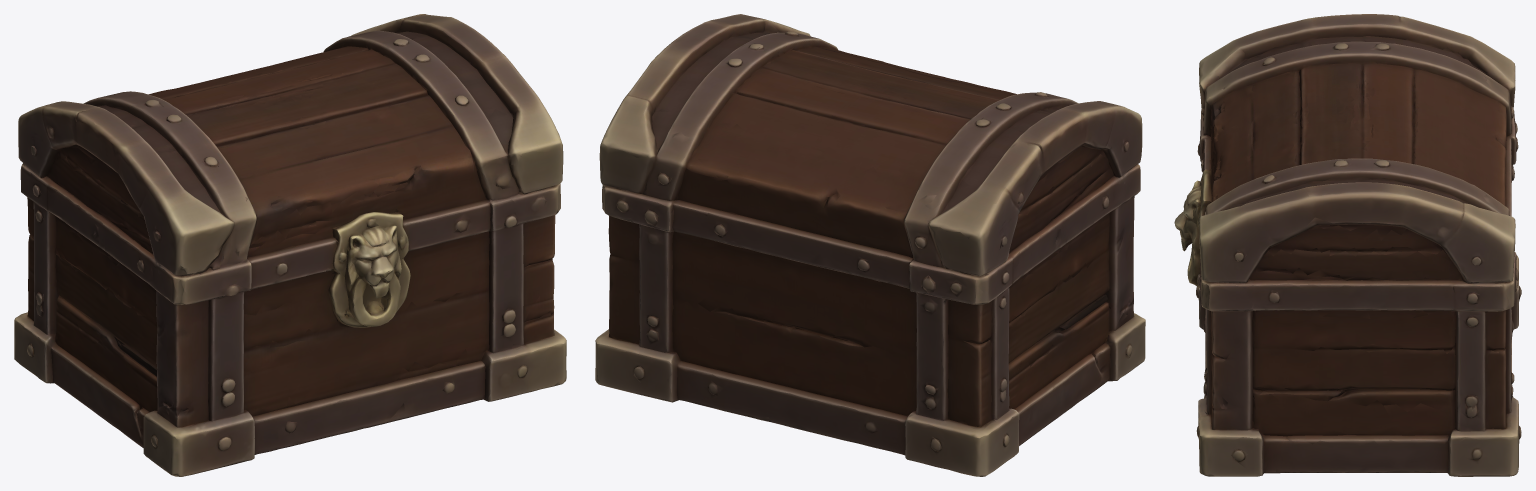
The model's file is chest_rodin.glb.
3 renders of one model, left to right at view 1: azimuth 30°, elevation 25°; view 2: azimuth 150°, elevation 25°; view 3: azimuth 270°, elevation 25°, orthographic. The views are drawn at different scales.
Visible parts, largest first — view 1: Mesh; view 2: Mesh; view 3: Mesh.
Part boxes in pixels (x1=…): Mesh: x1=14, y1=14, x2=566, y2=476; Mesh: x1=595, y1=14, x2=1145, y2=476; Mesh: x1=1174, y1=14, x2=1521, y2=476.
Size of the model in its own units: 1.93 by 1.35 by 1.51.
1 material, 1 textured.
